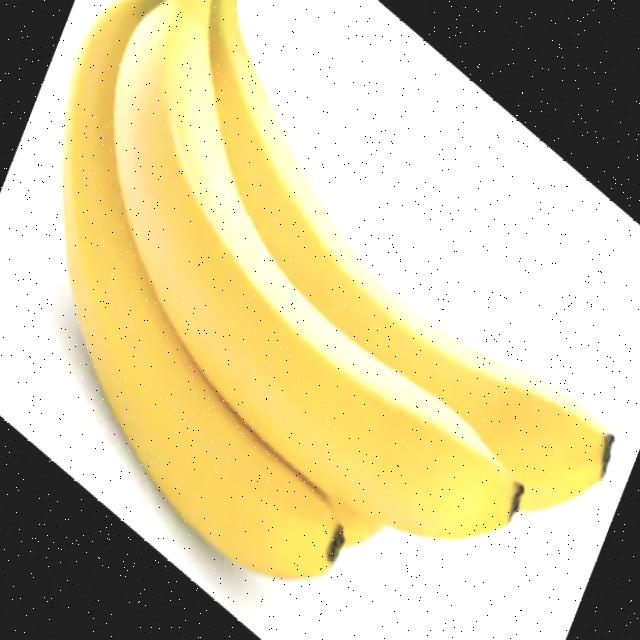god quality banana: (64, 2, 613, 578)
